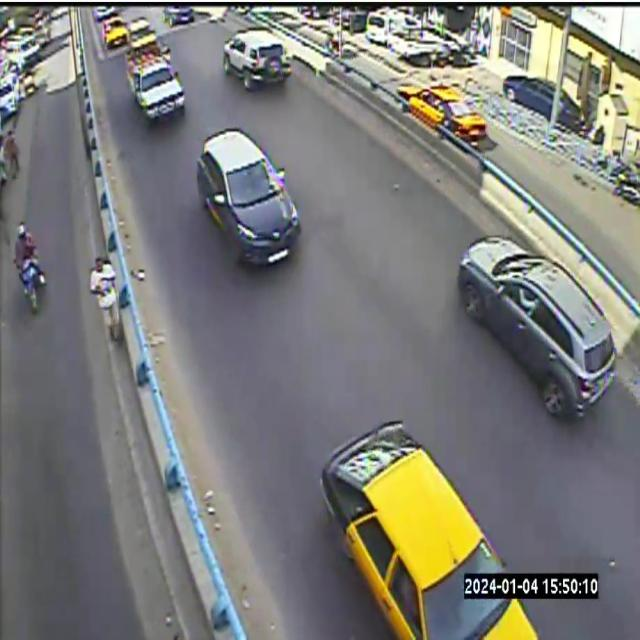car: (321, 422, 537, 639), (458, 236, 616, 420), (196, 129, 301, 264), (397, 84, 486, 145), (125, 36, 184, 121), (223, 30, 291, 90), (102, 15, 129, 48)
